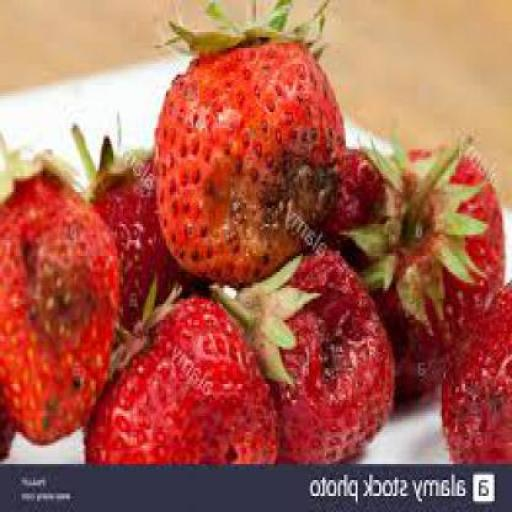biodegradable: (155, 0, 352, 281), (330, 136, 506, 402), (211, 245, 397, 461), (3, 122, 123, 442), (86, 280, 282, 458), (76, 115, 206, 331), (443, 277, 511, 460), (2, 408, 19, 454)
